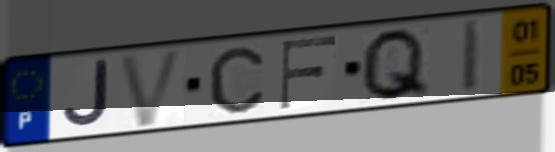C: (206, 44, 267, 116)
F: (277, 33, 341, 113)
I: (459, 17, 486, 95)
J: (59, 57, 113, 131)
Q: (356, 25, 432, 104)
V: (115, 45, 189, 131)
